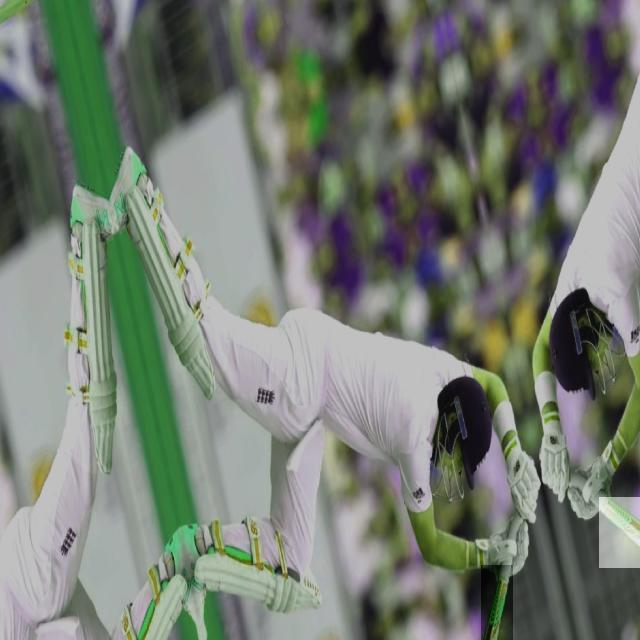bat: (597, 498, 640, 569)
